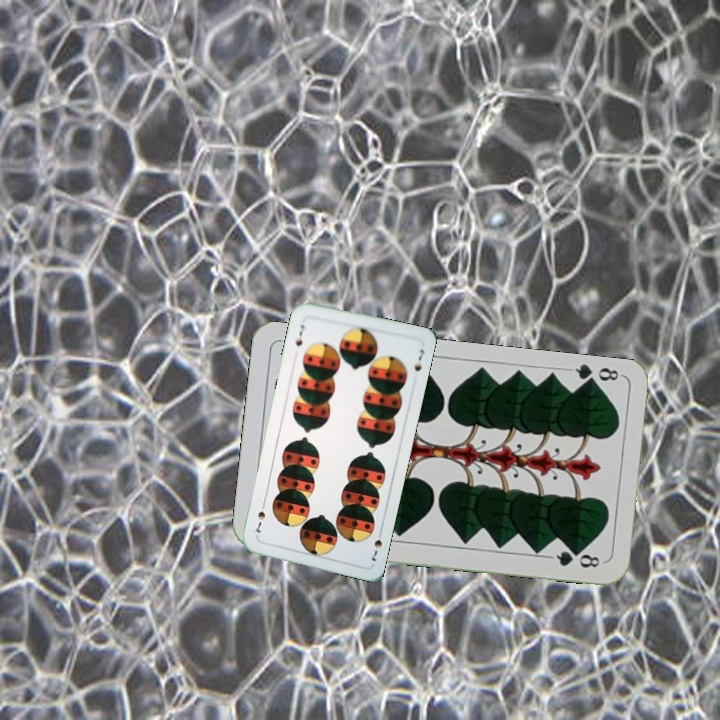G8: (565, 361, 624, 390)
S7: (367, 526, 385, 564), (291, 321, 308, 349)
